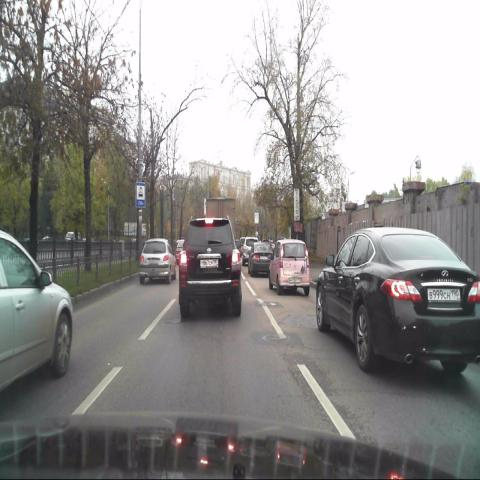7_5: (136, 182, 146, 207)
